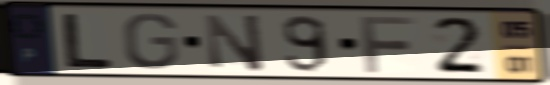2: (429, 15, 489, 76)
9: (280, 13, 329, 74)
F: (357, 13, 419, 75)
G: (122, 11, 182, 71)
L: (60, 11, 115, 70)
N: (201, 12, 267, 74)
